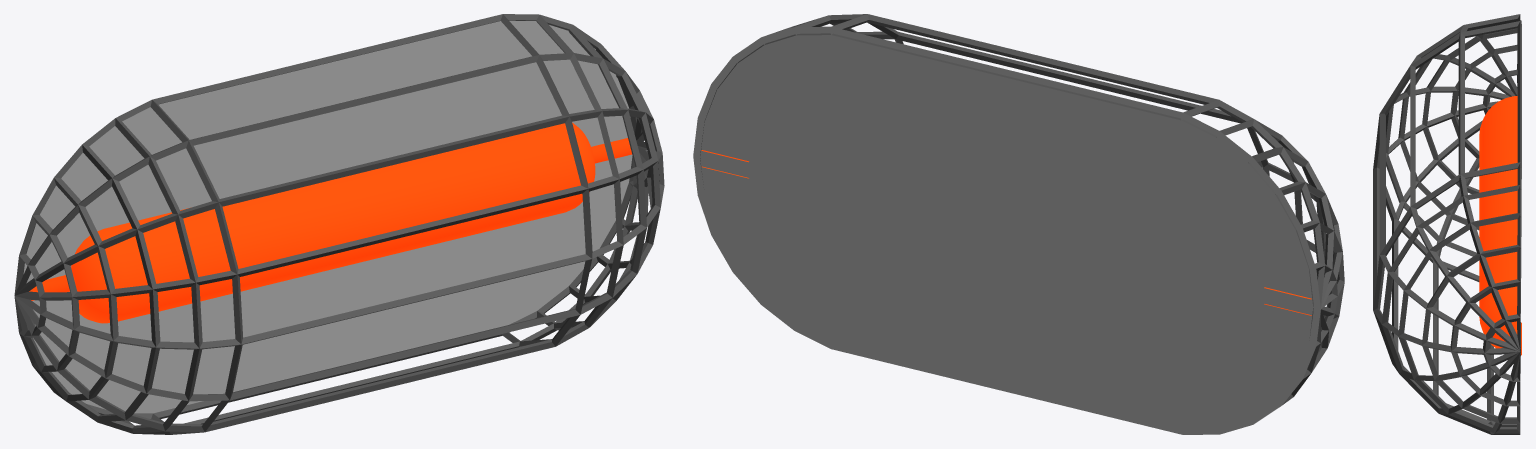
Rendered from BunkerLight.fbx.
The picture shows the model from 3 angles, left to right: view 1: azimuth 30°, elevation 25°; view 2: azimuth 150°, elevation 25°; view 3: azimuth 270°, elevation 25°; orthographic projection. The views are drawn at different scales.
Visible parts, largest first — view 1: Sphere.001; view 2: Sphere.001; view 3: Sphere.001.
Part boxes in pixels (box(x1,y1,x2,y2)): Sphere.001: box(14, 14, 664, 434); Sphere.001: box(693, 14, 1344, 434); Sphere.001: box(1373, 14, 1521, 434).
Bounding box in the file's own units: 400 × 196 × 99.71.
